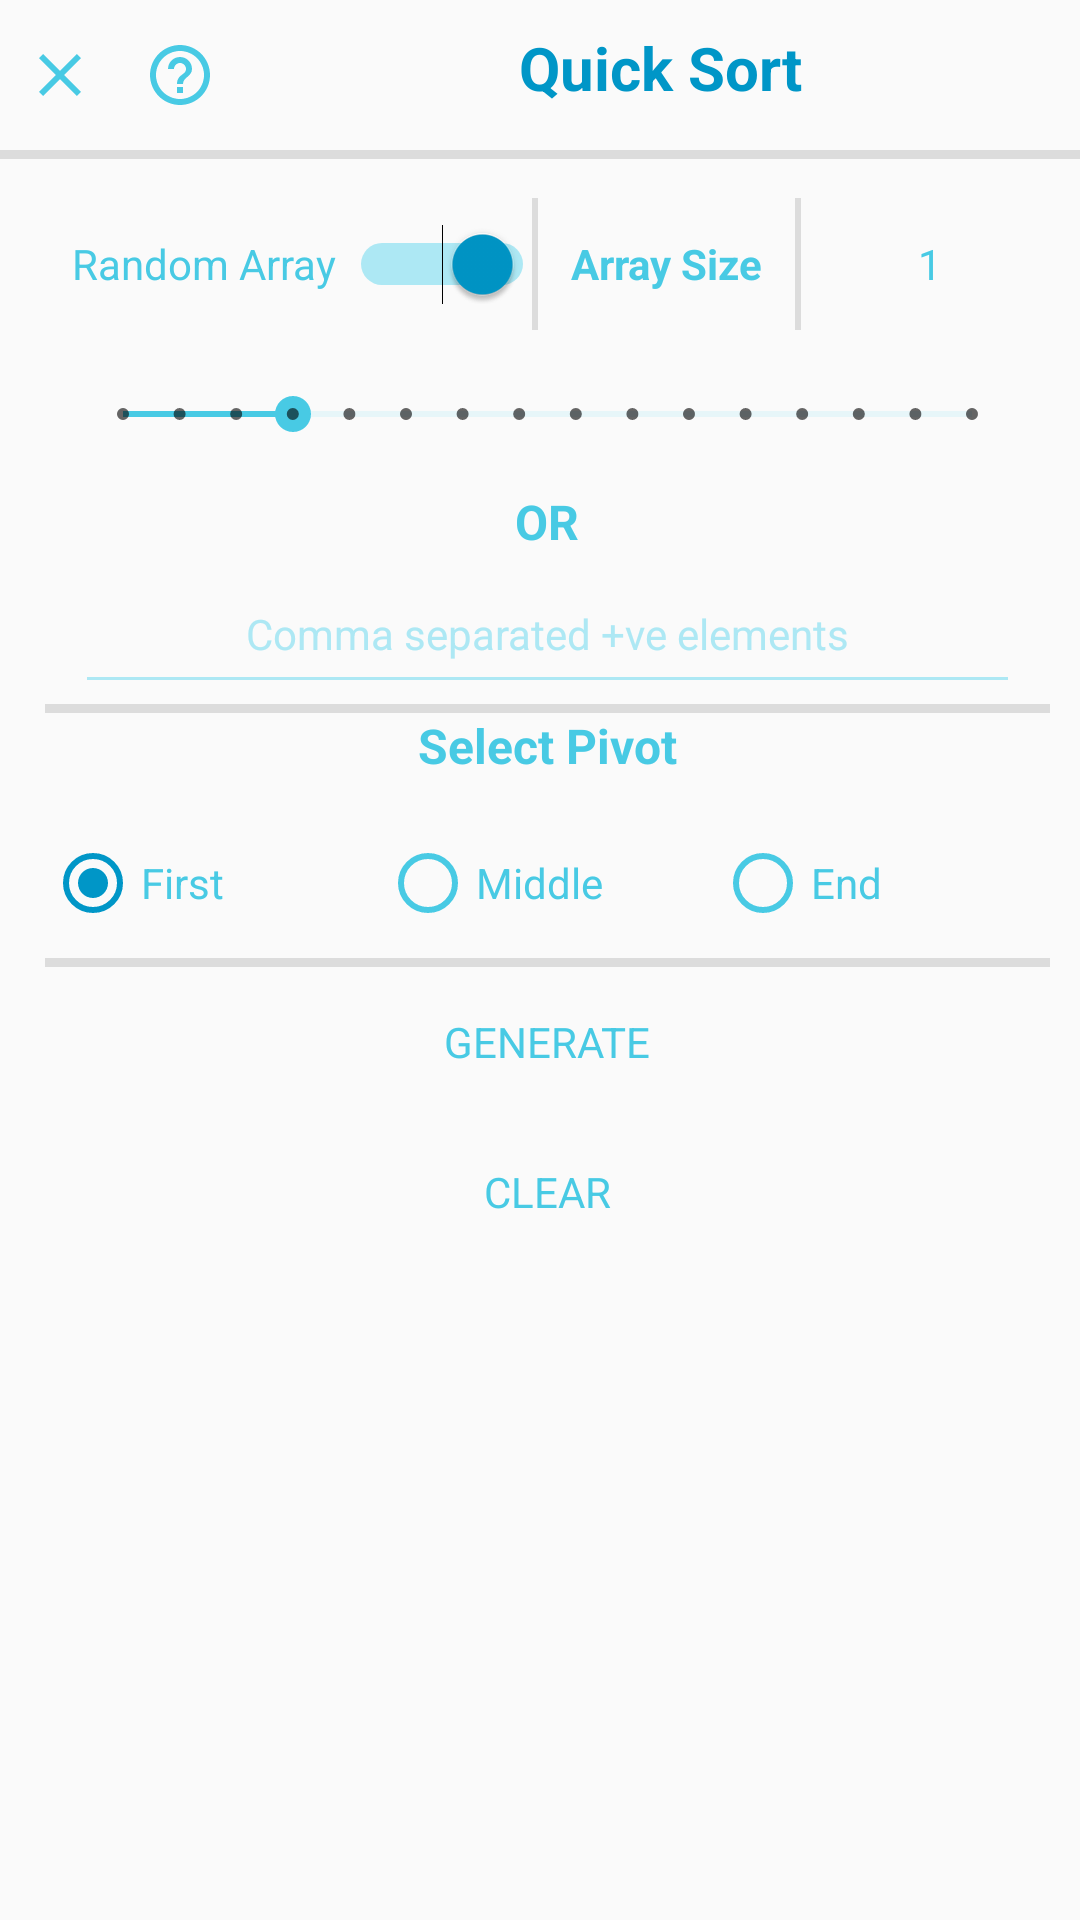

Where to tap for icons on this 1080*1920 app screen, as [x,y]:
close: [60,75]
Help: [180,75]
